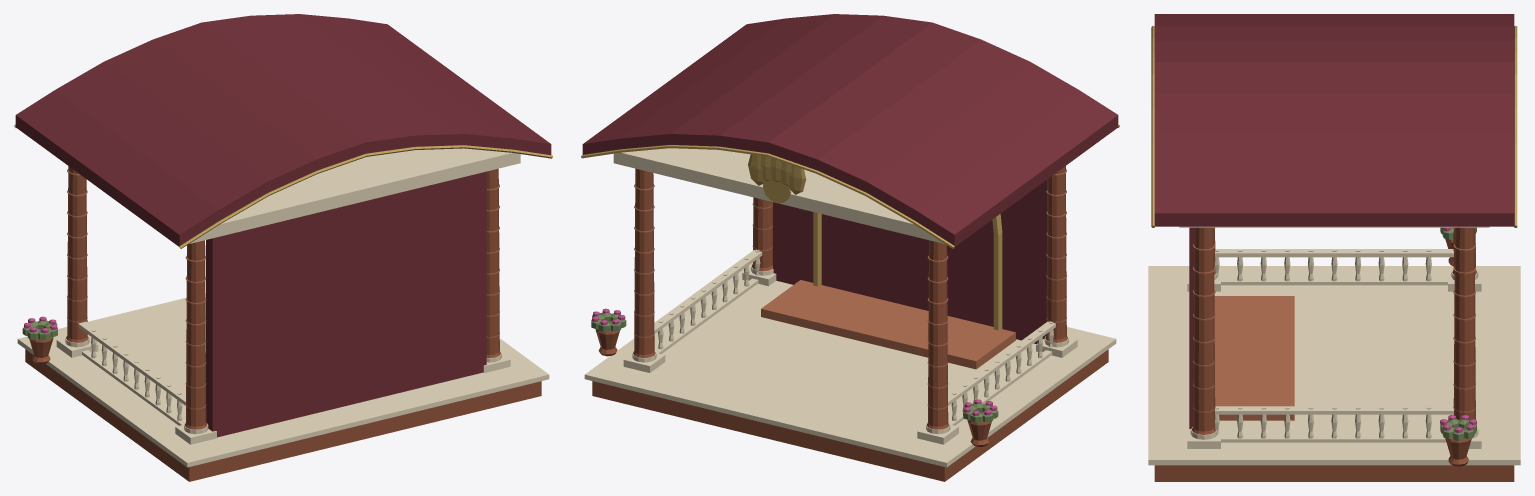
Rendered from KOL_T1_RAJBARI__05_Puja_Mandap.fbx.
3 views of the same model, side by side, from view 1: azimuth 30°, elevation 25°; view 2: azimuth 150°, elevation 25°; view 3: azimuth 270°, elevation 25° (orthographic). The views are drawn at different scales.
Parts seen in each view (by area): view 1: KOL_T1_RAJBARI__05_Puja_Mandap__KOL_T1_EstateMaroon, KOL_T1_RAJBARI__05_Puja_Mandap__KOL_T1_EstateIvory, KOL_T1_RAJBARI__05_Puja_Mandap__KOL_T1_EstateBrick, KOL_T1_RAJBARI__05_Puja_Mandap__KOL_T1_EstateGold, KOL_T1_RAJBARI__05_Puja_Mandap__KOL_T1_EstateBrickLight; view 2: KOL_T1_RAJBARI__05_Puja_Mandap__KOL_T1_EstateMaroon, KOL_T1_RAJBARI__05_Puja_Mandap__KOL_T1_EstateIvory, KOL_T1_RAJBARI__05_Puja_Mandap__KOL_T1_EstateBrick, KOL_T1_RAJBARI__05_Puja_Mandap__KOL_T1_EstateBrickLight, KOL_T1_RAJBARI__05_Puja_Mandap__KOL_T1_EstateGold, KOL_T1_RAJBARI__05_Puja_Mandap__KOL_T1_LeafLight; view 3: KOL_T1_RAJBARI__05_Puja_Mandap__KOL_T1_EstateMaroon, KOL_T1_RAJBARI__05_Puja_Mandap__KOL_T1_EstateIvory, KOL_T1_RAJBARI__05_Puja_Mandap__KOL_T1_EstateBrick, KOL_T1_RAJBARI__05_Puja_Mandap__KOL_T1_EstateBrickLight, KOL_T1_RAJBARI__05_Puja_Mandap__KOL_T1_EstateGold, KOL_T1_RAJBARI__05_Puja_Mandap__KOL_T1_LeafLight.
Part boxes in pixels (x1,y1,x2,y2): KOL_T1_RAJBARI__05_Puja_Mandap__KOL_T1_EstateMaroon: [15, 14, 551, 437]; KOL_T1_RAJBARI__05_Puja_Mandap__KOL_T1_EstateIvory: [17, 148, 549, 467]; KOL_T1_RAJBARI__05_Puja_Mandap__KOL_T1_EstateBrick: [25, 166, 541, 481]; KOL_T1_RAJBARI__05_Puja_Mandap__KOL_T1_EstateGold: [14, 124, 552, 248]; KOL_T1_RAJBARI__05_Puja_Mandap__KOL_T1_EstateBrickLight: [67, 169, 499, 409]; KOL_T1_RAJBARI__05_Puja_Mandap__KOL_T1_EstateMaroon: [582, 14, 1118, 343]; KOL_T1_RAJBARI__05_Puja_Mandap__KOL_T1_EstateIvory: [584, 148, 1116, 467]; KOL_T1_RAJBARI__05_Puja_Mandap__KOL_T1_EstateBrick: [592, 166, 1108, 481]; KOL_T1_RAJBARI__05_Puja_Mandap__KOL_T1_EstateBrickLight: [634, 169, 1066, 409]; KOL_T1_RAJBARI__05_Puja_Mandap__KOL_T1_EstateGold: [581, 124, 1119, 330]; KOL_T1_RAJBARI__05_Puja_Mandap__KOL_T1_LeafLight: [591, 312, 998, 423]; KOL_T1_RAJBARI__05_Puja_Mandap__KOL_T1_EstateMaroon: [1154, 14, 1514, 428]; KOL_T1_RAJBARI__05_Puja_Mandap__KOL_T1_EstateIvory: [1148, 226, 1520, 465]; KOL_T1_RAJBARI__05_Puja_Mandap__KOL_T1_EstateBrick: [1154, 227, 1514, 481]; KOL_T1_RAJBARI__05_Puja_Mandap__KOL_T1_EstateBrickLight: [1193, 227, 1475, 420]; KOL_T1_RAJBARI__05_Puja_Mandap__KOL_T1_EstateGold: [1151, 25, 1517, 227]; KOL_T1_RAJBARI__05_Puja_Mandap__KOL_T1_LeafLight: [1440, 227, 1476, 440].
Bounding box in the file's own units: 41.14 × 28.95 × 30.
